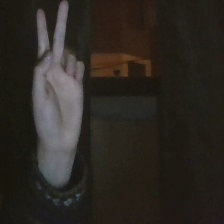K: (22, 1, 89, 162)
